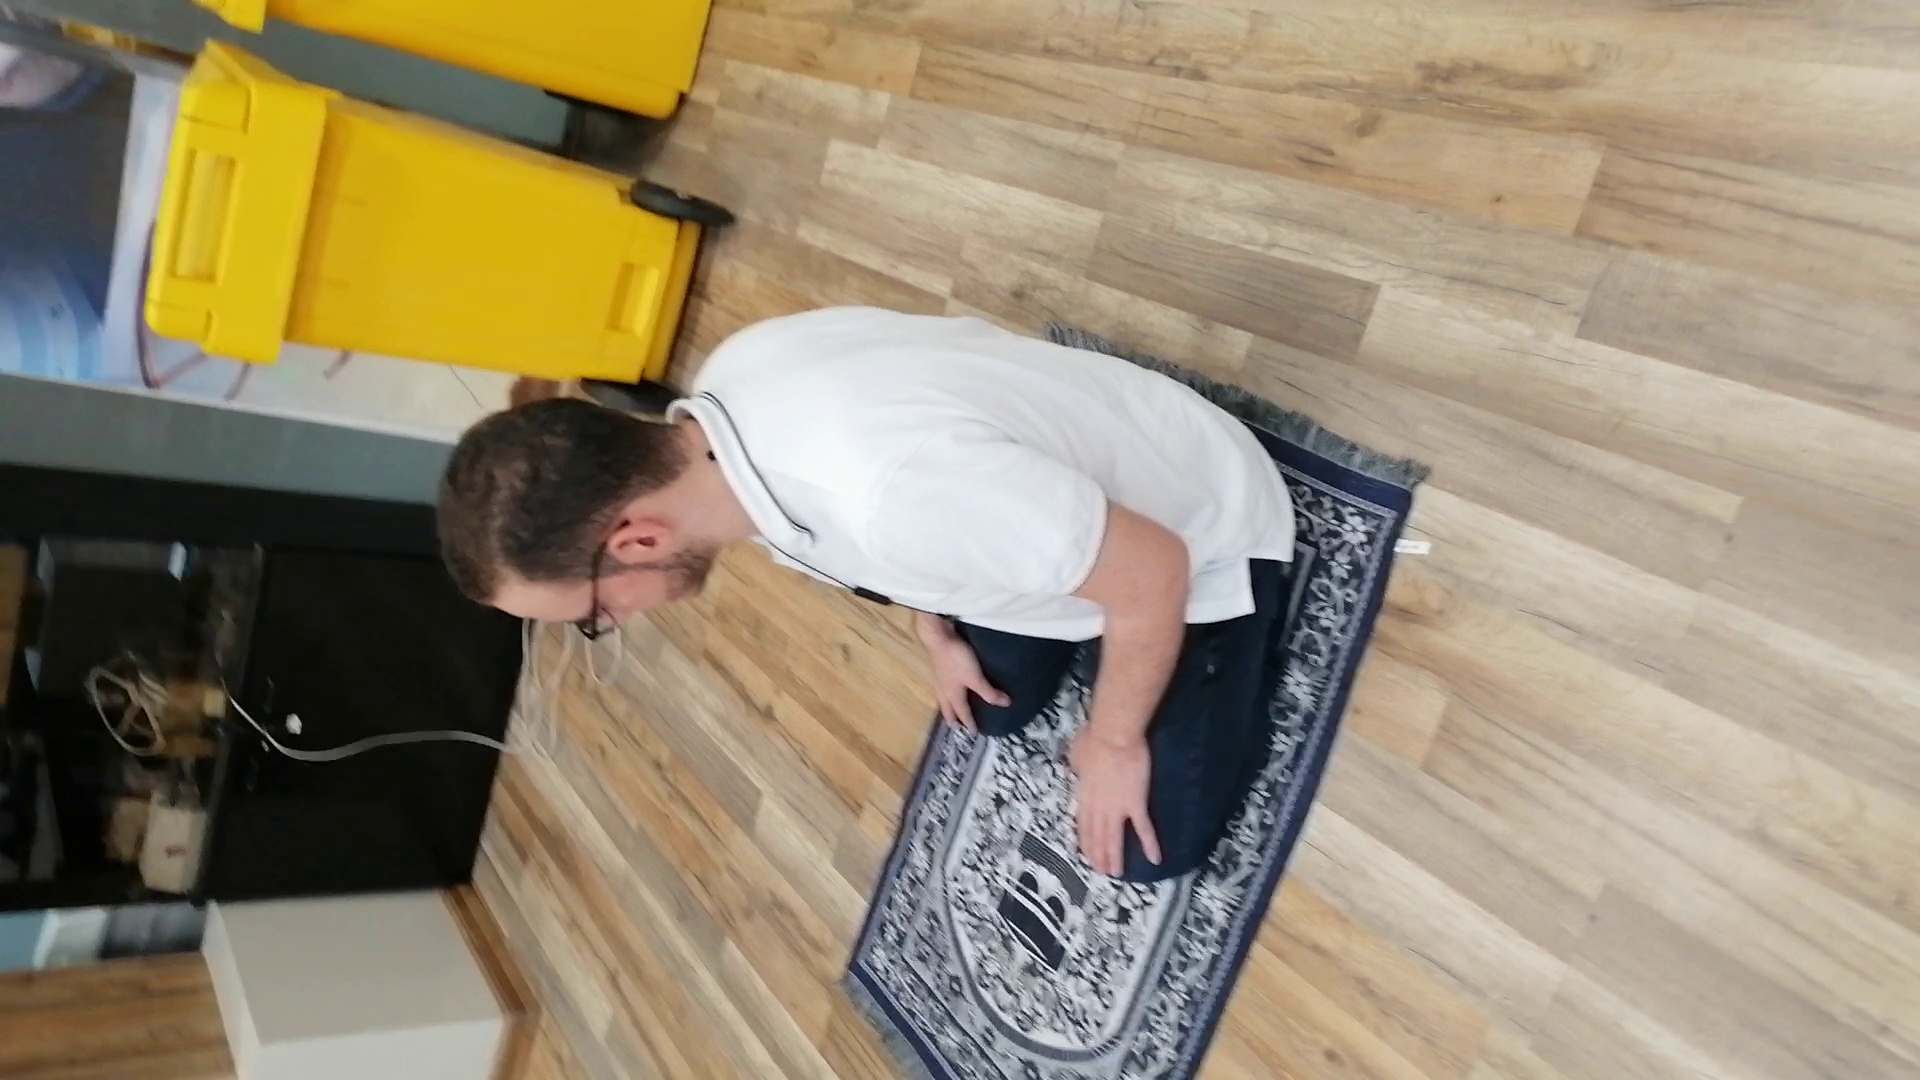sitting: (426, 290, 1312, 898)
